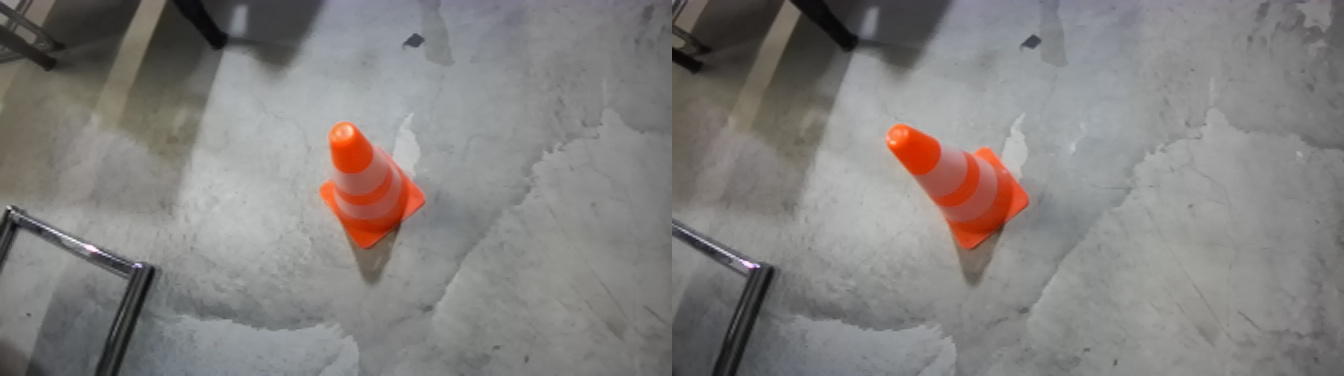cone: (886, 126, 1034, 258), (321, 125, 430, 254)
